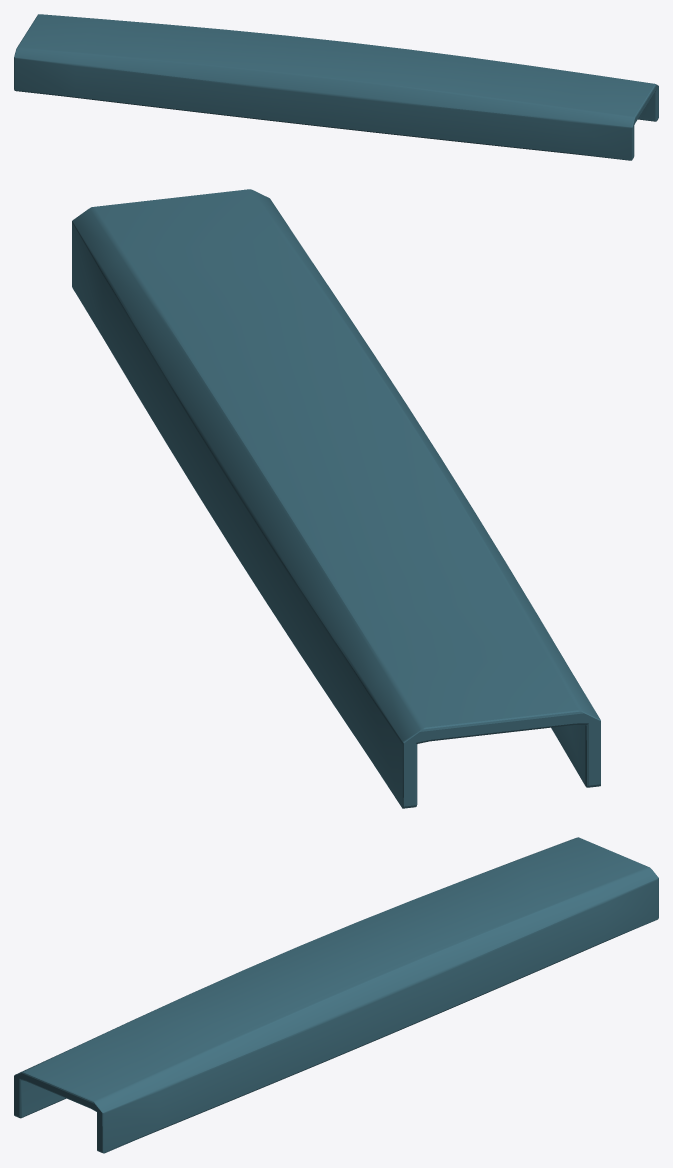
Rendered from Arm_Cover_3.fbx.
3 renders of one model, top to bottom at view 1: azimuth 30°, elevation 25°; view 2: azimuth 150°, elevation 25°; view 3: azimuth 270°, elevation 25°, orthographic. The views are drawn at different scales.
Visible parts, largest first — view 1: COVER_14in_RR_Low_Guard; view 2: COVER_14in_RR_Low_Guard; view 3: COVER_14in_RR_Low_Guard.
Part boxes in pixels (x1,y1,x2,y2): COVER_14in_RR_Low_Guard: [14, 14, 658, 160]; COVER_14in_RR_Low_Guard: [72, 189, 600, 808]; COVER_14in_RR_Low_Guard: [14, 837, 658, 1153].
Size of the model in its own units: 7.97 by 0.76 by 7.97.
